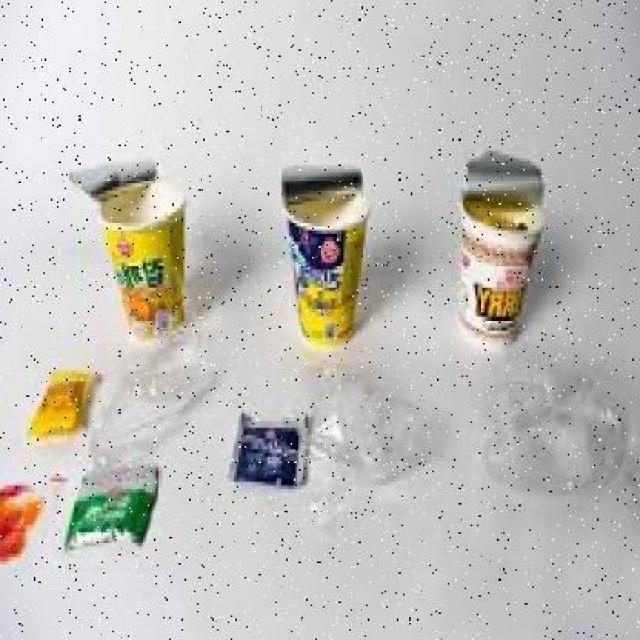Miscellaneous: (272, 168, 374, 358), (439, 162, 548, 336), (98, 162, 194, 356)
